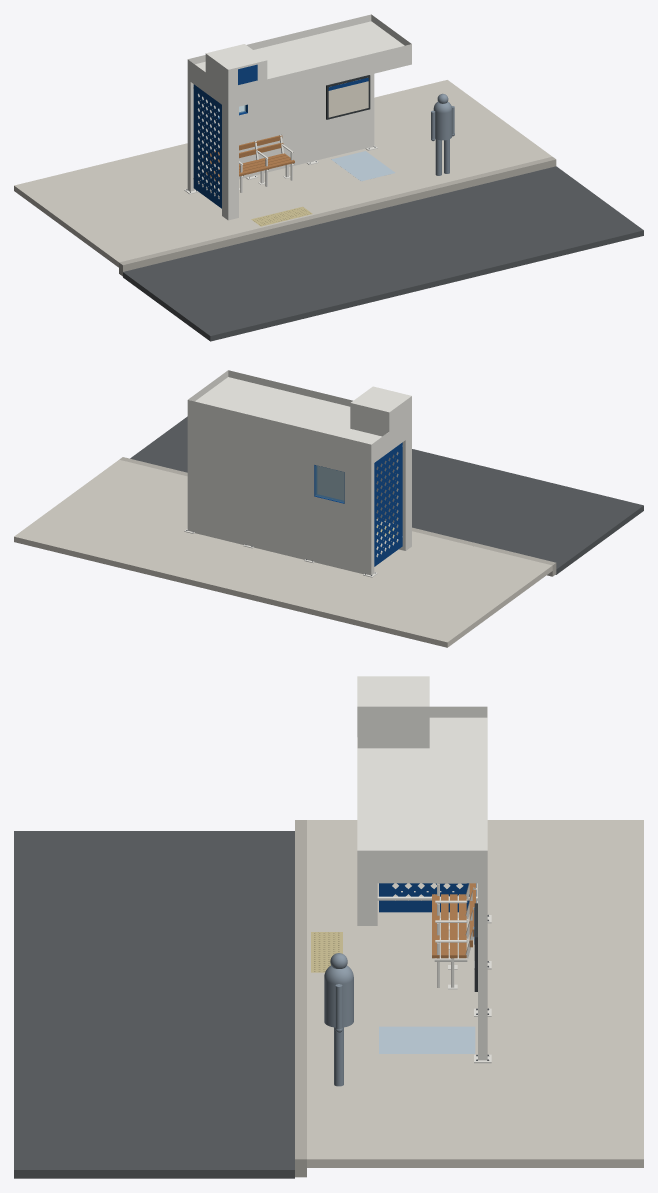
Rendered from cubista.glb.
3 renders of one model, top to bottom at view 1: azimuth 30°, elevation 25°; view 2: azimuth 150°, elevation 25°; view 3: azimuth 270°, elevation 25°, orthographic. The views are drawn at different scales.
Parts seen in each view (by area): view 1: A0-faixa-01, A0-passeio-01, A2.1-revestimento-07, A0-lancil-01, A2.1-revestimento-02, A2.1-revestimento-03, A3.1-chapa-perfurada-01, A0-figura-01, A2.1-revestimento-12, A4.2-banco-assento-01, A4.3-painel-cartaz-01, A0-zona-cadeira-rodas-01 (+8 smaller); view 2: A0-passeio-01, A2.1-revestimento-06, A0-faixa-01, A2.1-revestimento-02, A3.1-chapa-perfurada-01, A2.1-revestimento-15, A0-lancil-01, A3.2-vidro-janela-01, A2.1-revestimento-03, A2.1-revestimento-18, A2.1-revestimento-04, A2.1-revestimento-10 (+3 smaller); view 3: A0-faixa-01, A0-passeio-01, A2.1-revestimento-02, A2.1-revestimento-05, A0-lancil-01, A2.1-revestimento-17, A0-zona-cadeira-rodas-01, A0-figura-01, A2.1-revestimento-18, A4.2-banco-assento-01, A2.1-revestimento-09, A3.1-chapa-perfurada-01 (+4 smaller).
Boxes of the visible parts, bbox=[...] form: A0-faixa-01: bbox=[123, 166, 643, 341]; A0-passeio-01: bbox=[14, 80, 551, 267]; A2.1-revestimento-07: bbox=[190, 74, 374, 190]; A0-lancil-01: bbox=[119, 156, 556, 276]; A2.1-revestimento-02: bbox=[195, 21, 404, 79]; A2.1-revestimento-03: bbox=[228, 44, 411, 109]; A3.1-chapa-perfurada-01: bbox=[193, 84, 221, 208]; A0-figura-01: bbox=[431, 93, 454, 175]; A2.1-revestimento-12: bbox=[228, 106, 238, 220]; A4.2-banco-assento-01: bbox=[203, 135, 294, 181]; A4.3-painel-cartaz-01: bbox=[328, 81, 368, 117]; A0-zona-cadeira-rodas-01: bbox=[331, 151, 395, 181]; A0-passeio-01: bbox=[14, 459, 552, 647]; A2.1-revestimento-06: bbox=[187, 400, 371, 575]; A0-faixa-01: bbox=[130, 416, 643, 574]; A2.1-revestimento-02: bbox=[195, 377, 381, 444]; A3.1-chapa-perfurada-01: bbox=[374, 442, 402, 566]; A2.1-revestimento-15: bbox=[350, 403, 389, 437]; A0-lancil-01: bbox=[119, 457, 556, 576]; A3.2-vidro-janela-01: bbox=[315, 465, 344, 502]; A2.1-revestimento-03: bbox=[228, 370, 352, 406]; A2.1-revestimento-18: bbox=[351, 386, 411, 412]; A2.1-revestimento-04: bbox=[371, 415, 411, 464]; A2.1-revestimento-10: bbox=[405, 435, 411, 550]; A0-faixa-01: bbox=[14, 831, 294, 1178]; A0-passeio-01: bbox=[307, 820, 643, 1167]; A2.1-revestimento-02: bbox=[357, 717, 487, 850]; A2.1-revestimento-05: bbox=[357, 850, 487, 883]; A0-lancil-01: bbox=[295, 820, 306, 1177]; A2.1-revestimento-17: bbox=[357, 706, 429, 748]; A0-zona-cadeira-rodas-01: bbox=[379, 1026, 475, 1053]; A0-figura-01: bbox=[324, 953, 353, 1086]; A2.1-revestimento-18: bbox=[357, 676, 429, 706]; A4.2-banco-assento-01: bbox=[432, 883, 475, 958]; A2.1-revestimento-09: bbox=[478, 883, 487, 1060]; A3.1-chapa-perfurada-01: bbox=[379, 883, 476, 912].
Bounding box in the file's own units: 10000 × 4060 × 7850.
